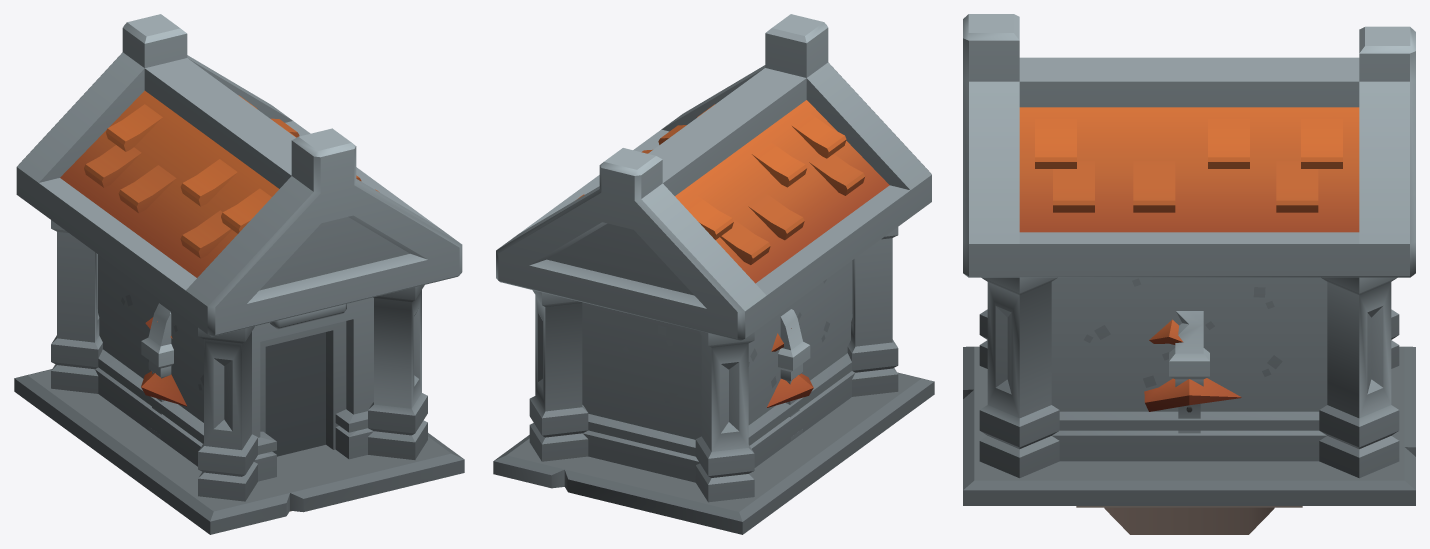
File: halloween.glb
3 renders of one model, left to right at view 1: azimuth 30°, elevation 25°; view 2: azimuth 150°, elevation 25°; view 3: azimuth 270°, elevation 25°, orthographic. The views are drawn at different scales.
Parts seen in each view (by area): view 1: crypt, arch, tree_pine_orange_large; view 2: crypt, arch, tree_pine_orange_large; view 3: crypt, floor_dirt_grave, arch, tree_pine_orange_large.
Part boxes in pixels (x1,y1,x2,y2): crypt: (14, 14, 464, 534); arch: (141, 303, 173, 439); tree_pine_orange_large: (141, 317, 187, 406); crypt: (493, 14, 934, 534); arch: (778, 309, 810, 441); tree_pine_orange_large: (767, 328, 813, 407); crypt: (963, 14, 1415, 505); floor_dirt_grave: (1104, 507, 1274, 534); arch: (1169, 311, 1209, 433); tree_pine_orange_large: (1144, 319, 1241, 411).
Bounding box in the file's own units: 6 × 9.5 × 8.
Materials: 1 (1 with a texture image).
